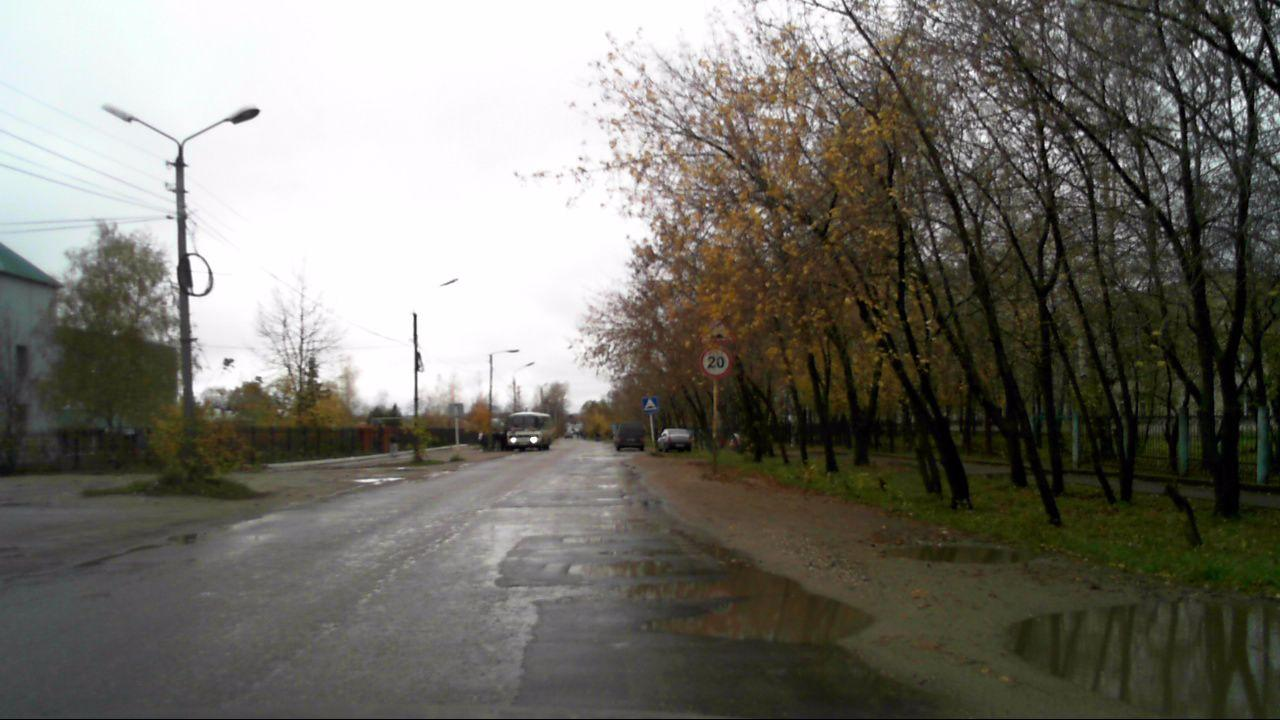obstructed_road_sign: (700, 345, 734, 380), (698, 318, 742, 344)
road_sign: (640, 397, 659, 413)
